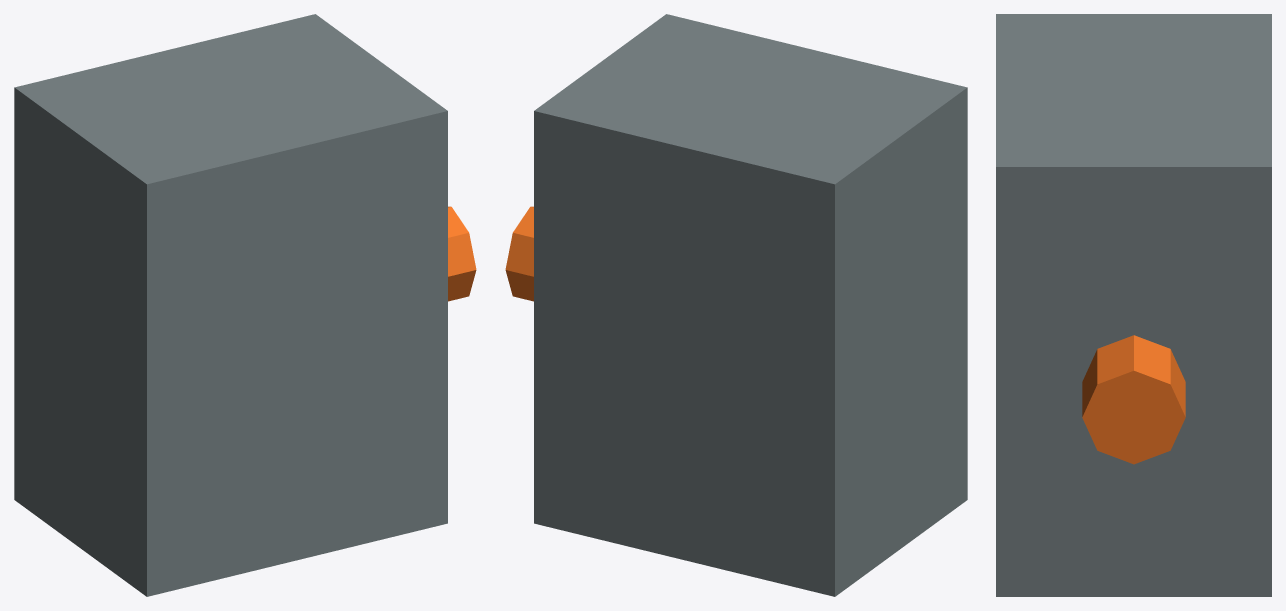
File: air_mic_076.glb
The picture shows the model from 3 angles, left to right: view 1: azimuth 30°, elevation 25°; view 2: azimuth 150°, elevation 25°; view 3: azimuth 270°, elevation 25°; orthographic projection. The views are drawn at different scales.
Parts seen in each view (by area): view 1: powerplant_part.011, detail.011; view 2: powerplant_part.011, detail.011; view 3: powerplant_part.011, detail.011.
Part boxes in pixels (x1,y1,x2,y2): powerplant_part.011: (14, 14, 447, 596); detail.011: (448, 206, 476, 301); powerplant_part.011: (534, 14, 967, 596); detail.011: (505, 206, 533, 301); powerplant_part.011: (996, 14, 1271, 596); detail.011: (1082, 335, 1185, 464).
Size of the model in its own units: 1.03 by 1.1 by 0.64.
